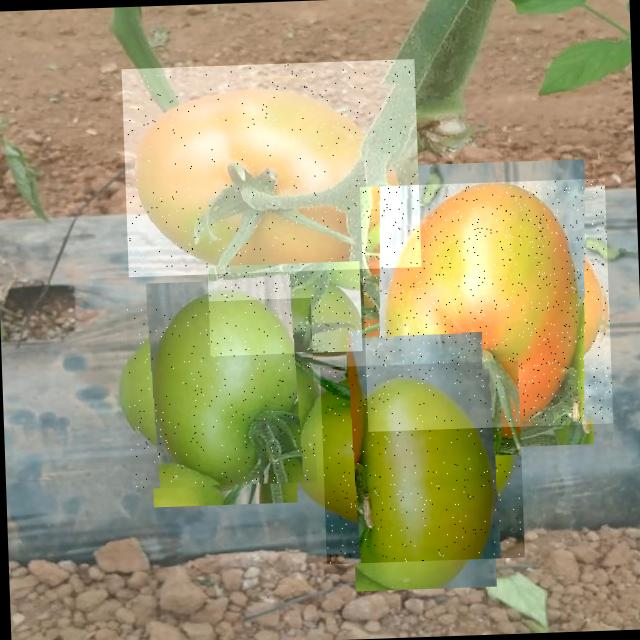Unripe Tomato: (121, 59, 421, 277), (360, 178, 612, 431), (320, 360, 524, 564), (126, 297, 316, 488), (207, 260, 362, 356)
